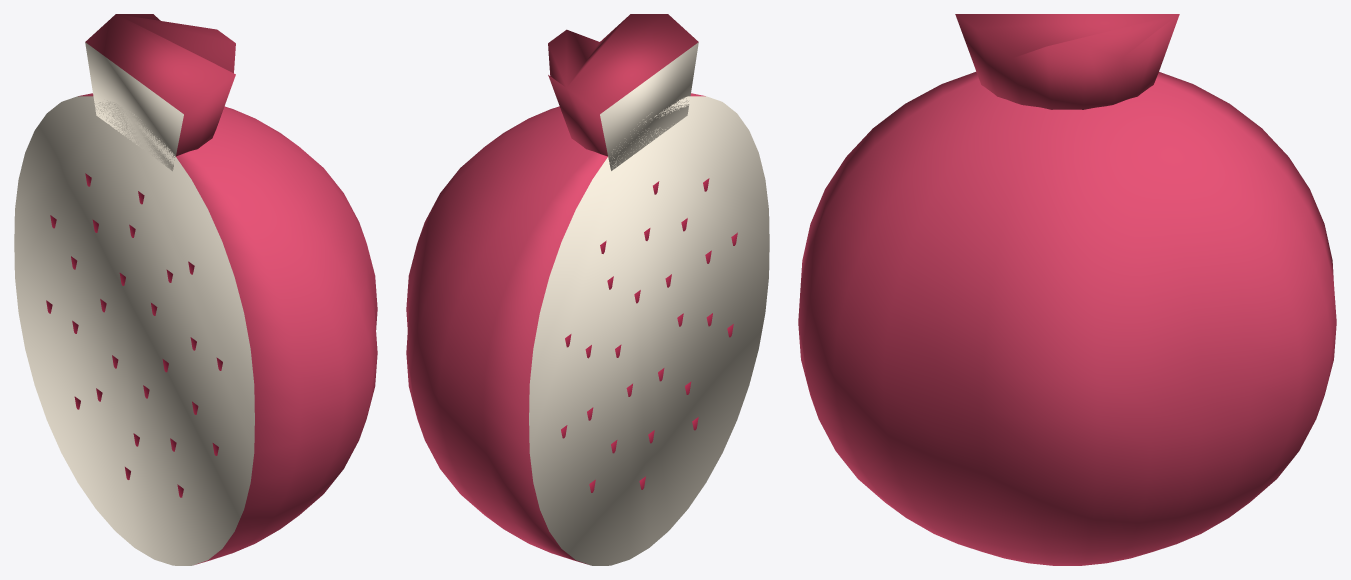
File: Pomegranate_Half_A.fbx
3 renders of one model, left to right at view 1: azimuth 30°, elevation 25°; view 2: azimuth 150°, elevation 25°; view 3: azimuth 270°, elevation 25°, orthographic. The views are drawn at different scales.
Visible parts, largest first — view 1: Pomegranate_Half_A; view 2: Pomegranate_Half_A; view 3: Pomegranate_Half_A.
Boxes of the visible parts, bbox=[...] form: Pomegranate_Half_A: bbox=[14, 14, 377, 565]; Pomegranate_Half_A: bbox=[406, 14, 769, 565]; Pomegranate_Half_A: bbox=[798, 14, 1336, 565].
Bounding box in the file's own units: 0.5793 × 1.2 × 1.08.
